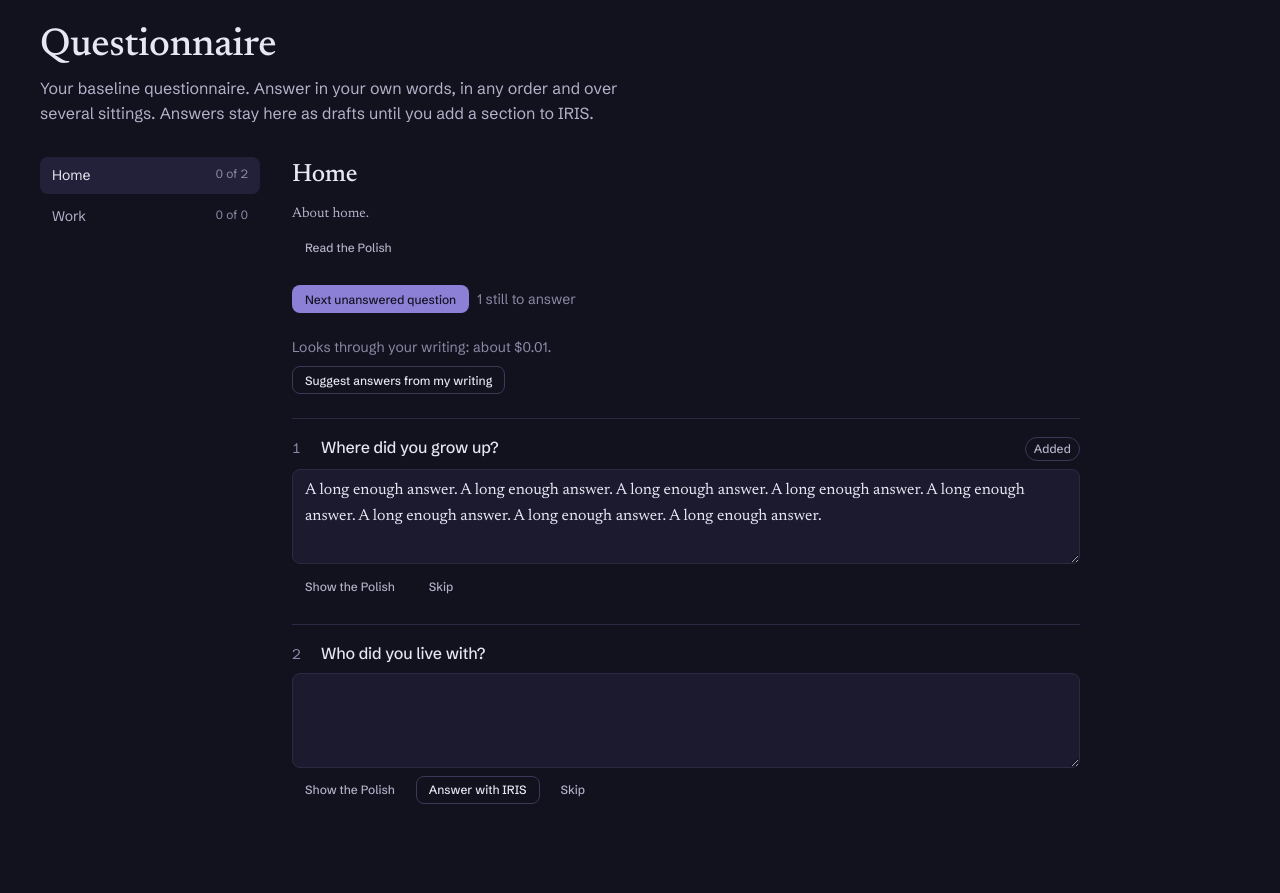
Test: suggestions from your writing › jumps to the next unanswered question and opens the interview there
Expected: the text "1 still to answer" is shown, 477,289 -> 576,310
Click the button "Next unanswered question" at (381, 299), box 292,285 -> 469,313
(page scrolled)
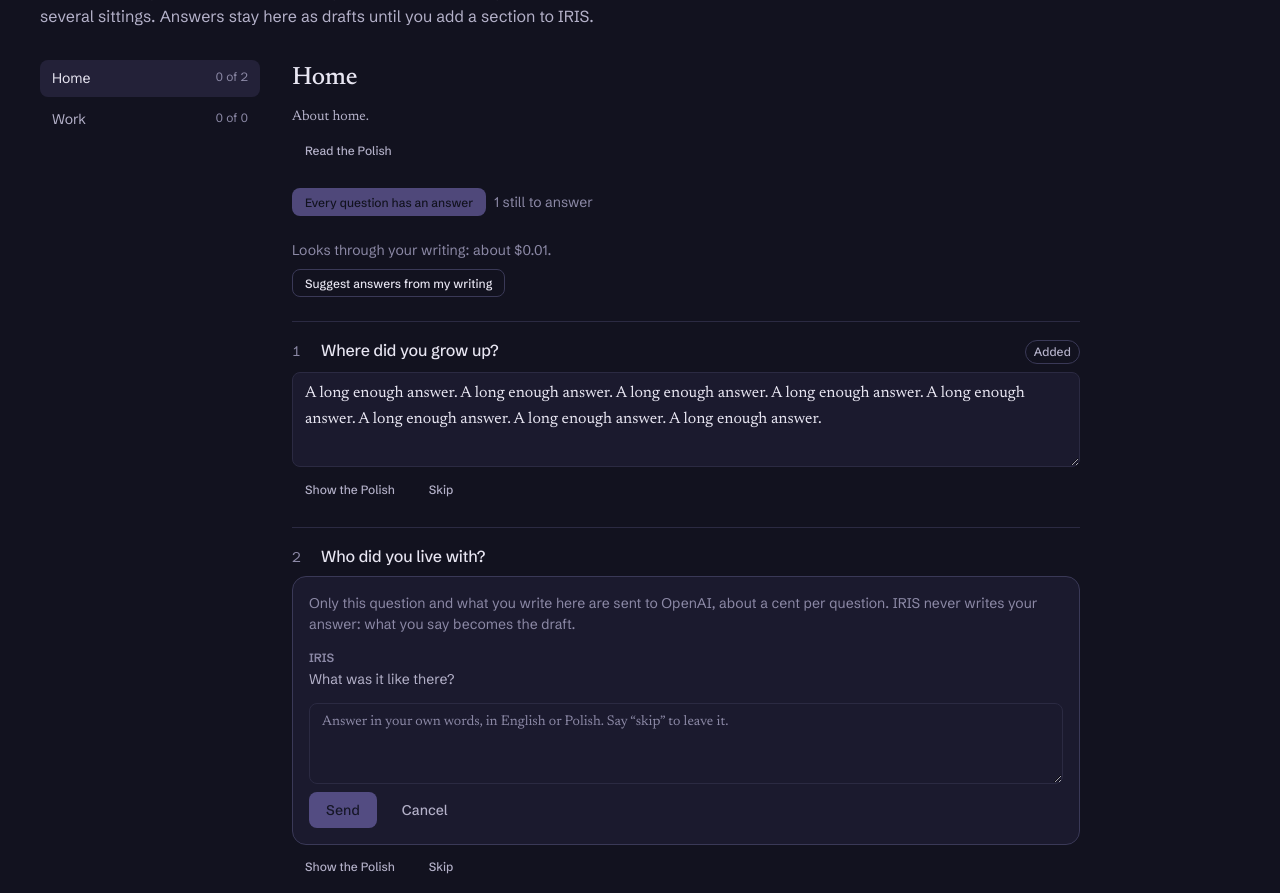
Now the element named "Answering with IRIS" is shown, box 292,576 -> 1080,845
